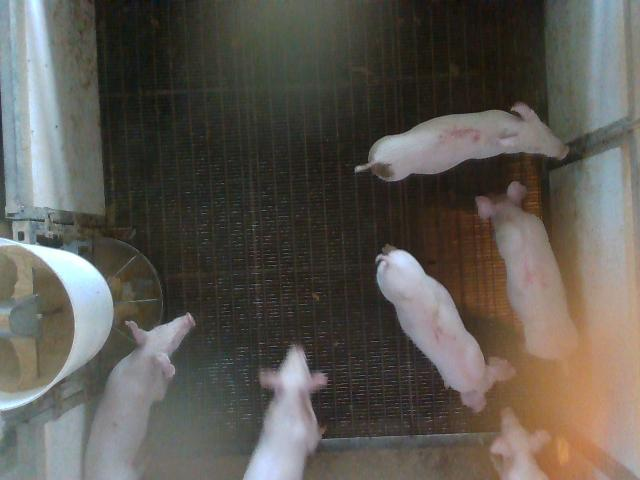pig-4: (478, 181, 578, 359)
pig-5: (355, 102, 569, 181)
